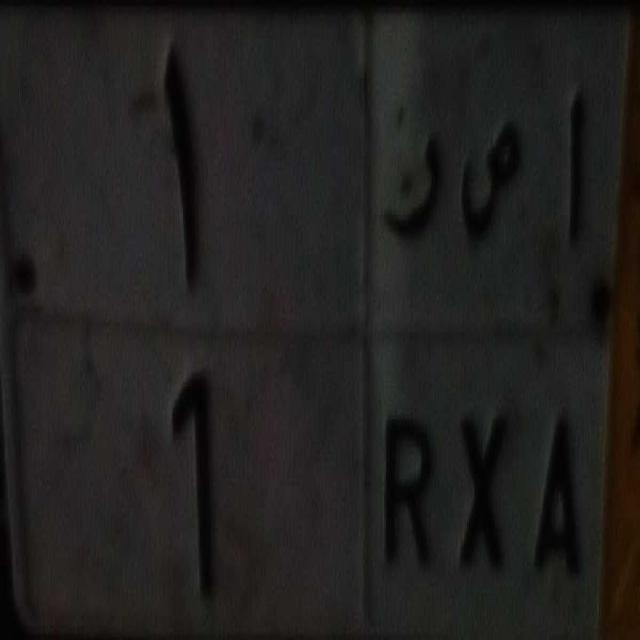license_plate: (6, 313, 614, 640)
